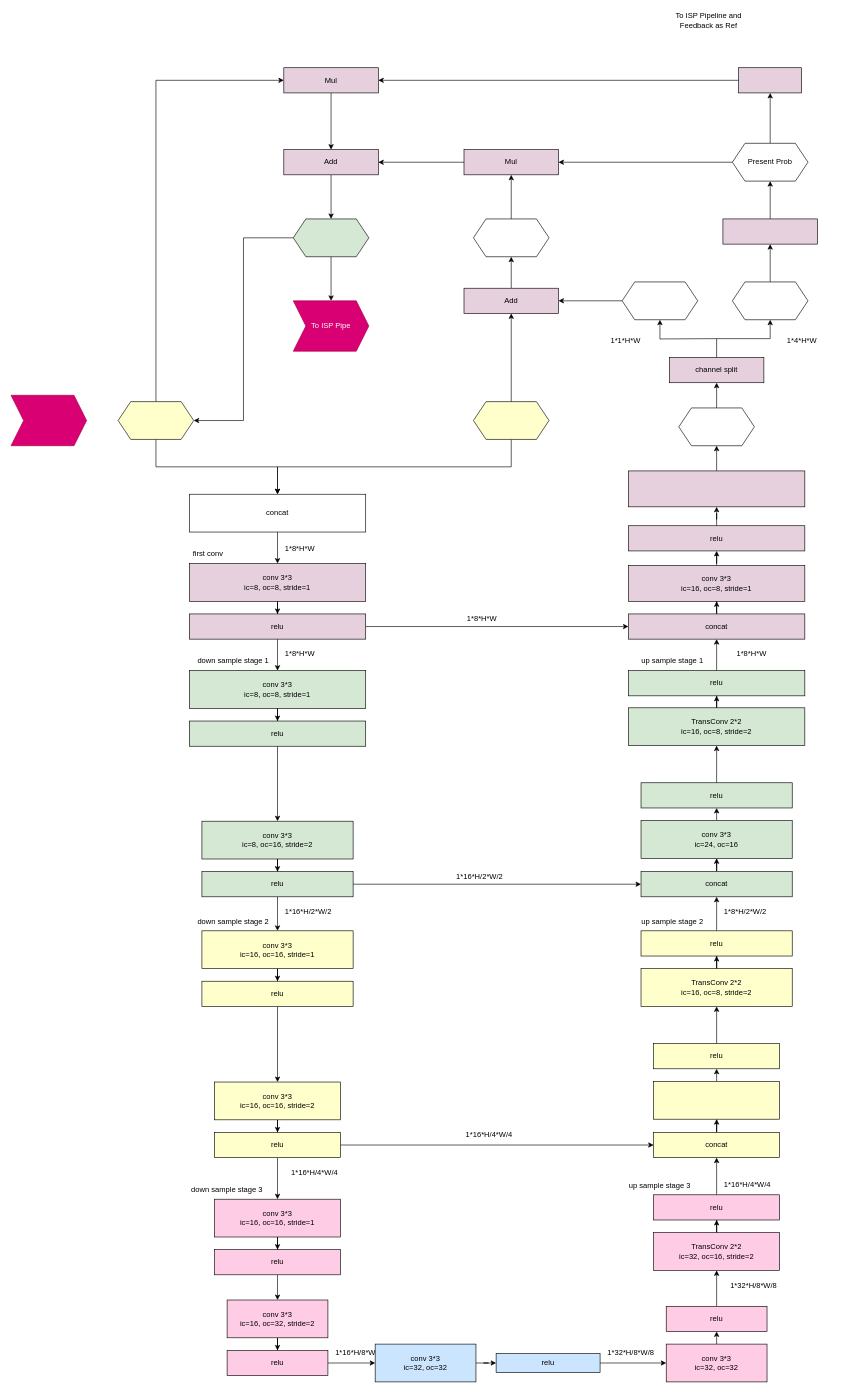
The diagram is 847 pixels wide and 1393 high, and some of its shapes have lost their labels. Each missing label, with the centre of its shape:
"1 - Present Prob" goes at pixel 770 80.
"conv 3*3 ic=32, oc=16" goes at pixel 716 1100.
"conv 3*3 ic=8, oc=5, stride=1" goes at pixel 716 488.
"From ISP Pipe" goes at pixel 48 420.
"Fusion Out" goes at pixel 331 237.
"Mask" goes at pixel 770 300.
"net output 1*5*H*W" goes at pixel 716 426.
"noise" goes at pixel 659 300.
"present denoise" goes at pixel 511 237.
"present frame 1*4*H*W" goes at pixel 511 420.
"previous frame 1*4*H*W" goes at pixel 155 420.
"Sigmoid" goes at pixel 769 231.
